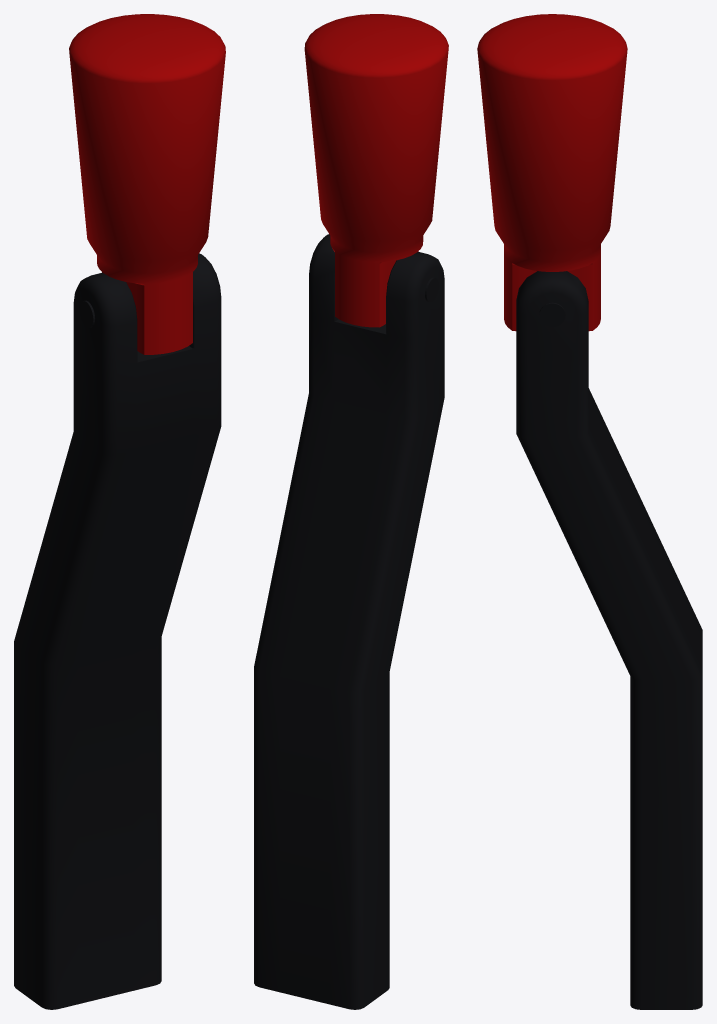
File: manette.fbx
3 renders of one model, left to right at view 1: azimuth 30°, elevation 25°; view 2: azimuth 150°, elevation 25°; view 3: azimuth 270°, elevation 25°, orthographic. The views are drawn at different scales.
Visible parts, largest first — view 1: manette.manette1, manette.manette2; view 2: manette.manette1, manette.manette2; view 3: manette.manette1, manette.manette2.
Boxes of the visible parts, x1,y1,x2,y2 form: manette.manette1: [14, 253, 221, 1009]; manette.manette2: [69, 14, 225, 354]; manette.manette1: [254, 234, 444, 1009]; manette.manette2: [304, 14, 448, 327]; manette.manette1: [516, 271, 702, 1009]; manette.manette2: [477, 14, 627, 331].
Bounding box in the file's own units: 1.07 × 1.61 × 7.47.
